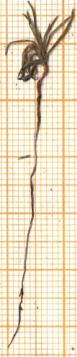flower: (0, 0, 77, 84)
root: (5, 155, 44, 353)
stem: (31, 65, 52, 157)
